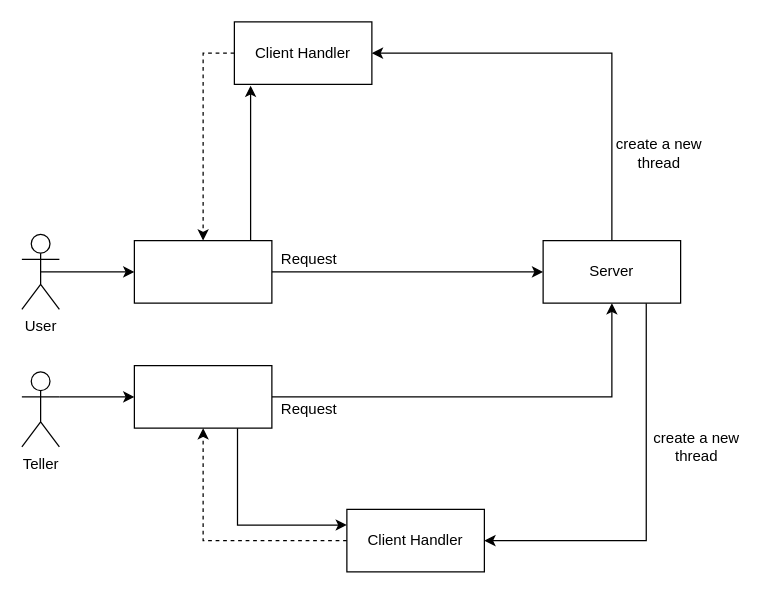
Image size: 769x594. Some labels were removed from this diagram. The centre of each missing label's shape, as x and y in pixels:
"ATM" belongs at [202,271].
"Teller Application" belongs at [202,396].
